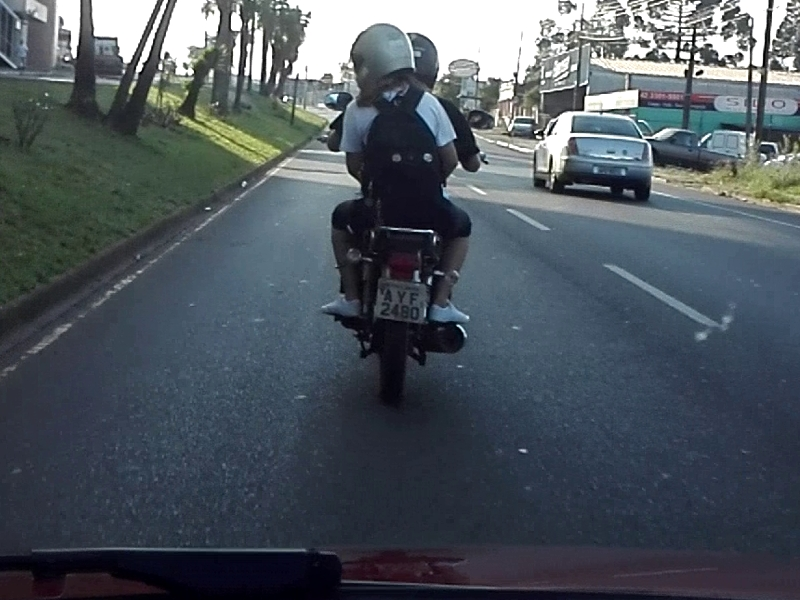placa: (374, 278, 427, 323)
